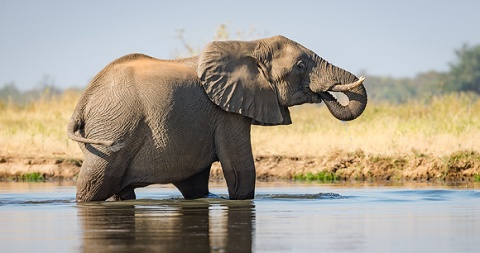elephant: (64, 34, 369, 202)
